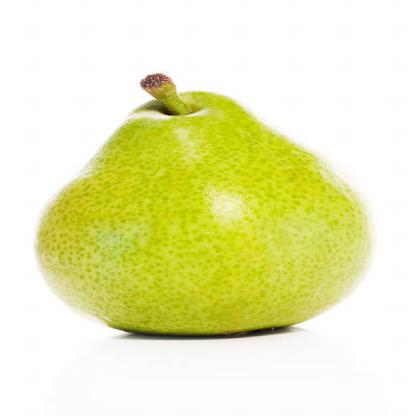Paer: (76, 59, 385, 339)
